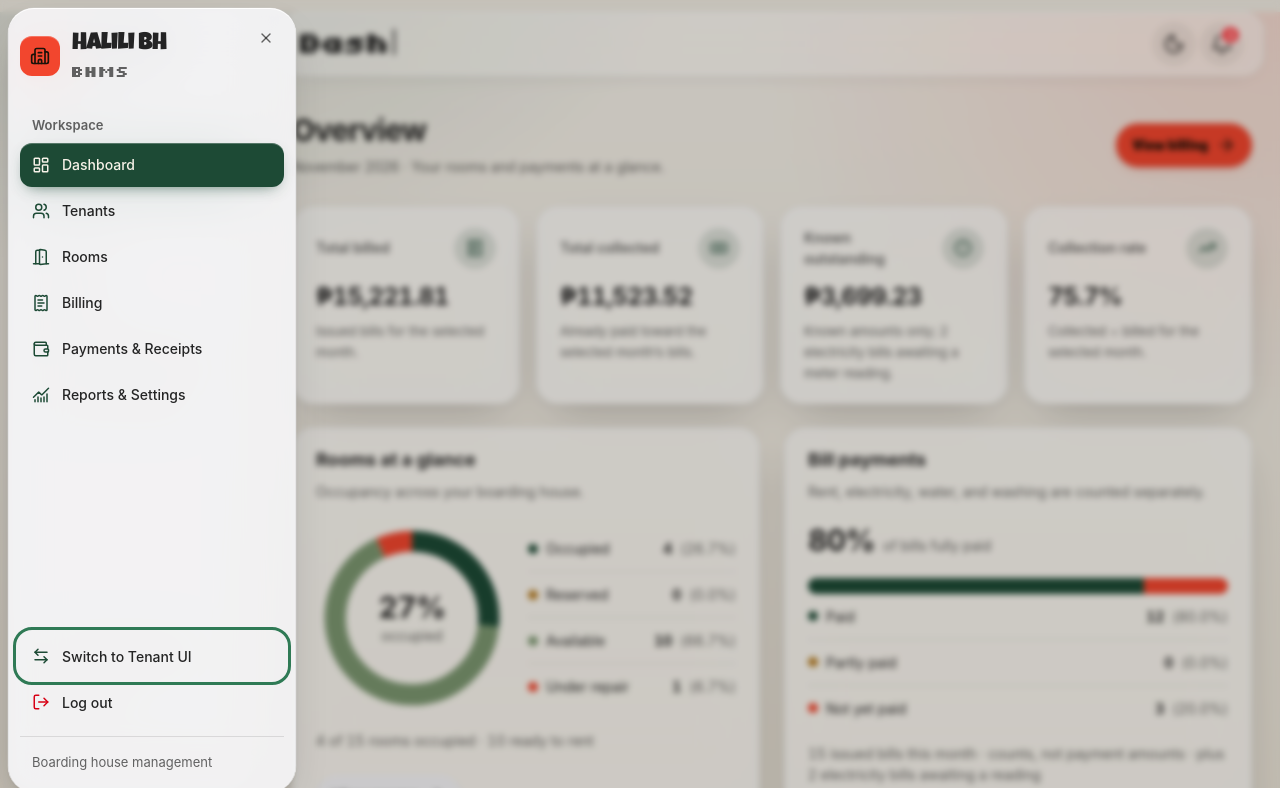
workspace switching › offers the same switch above Log out inside the mobile drawer and closes it on switch
This screenshot has width=1280, height=788.
Earlier steps of the test are not shown.
Click the button "Switch to Tenant UI": click(152, 656) [20, 634, 284, 678]
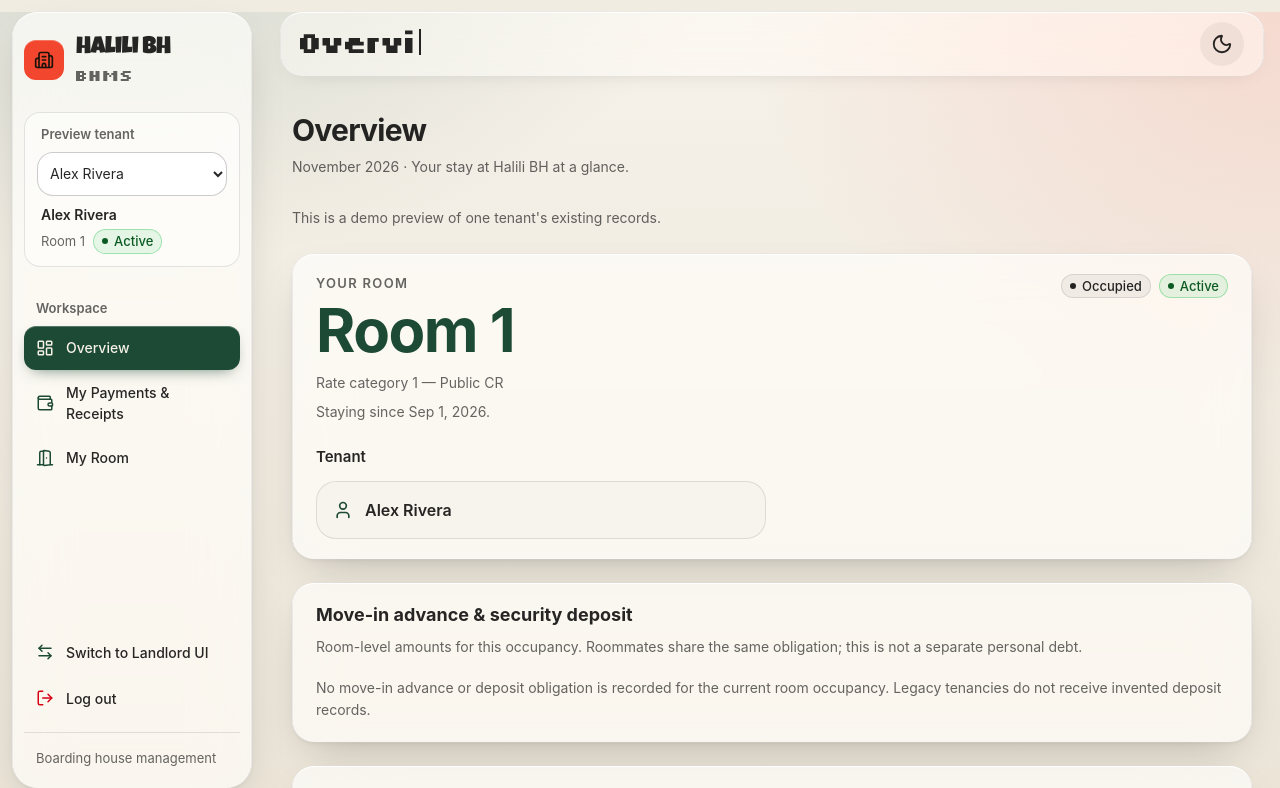
Expected: the heading "Overview" is shown, [292, 112, 426, 148]
Now the button "Switch to Landlord UI" is shown, box [24, 630, 240, 674]
